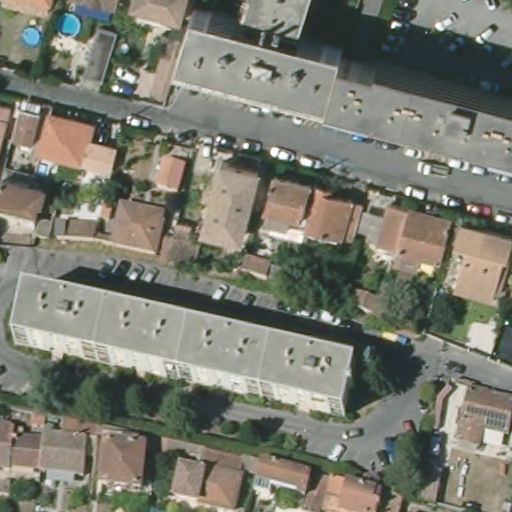pool: (55, 12, 81, 41), (20, 25, 45, 50)
